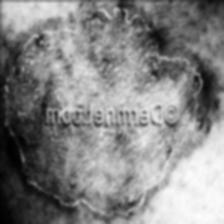Toxin: (0, 0, 212, 224)
